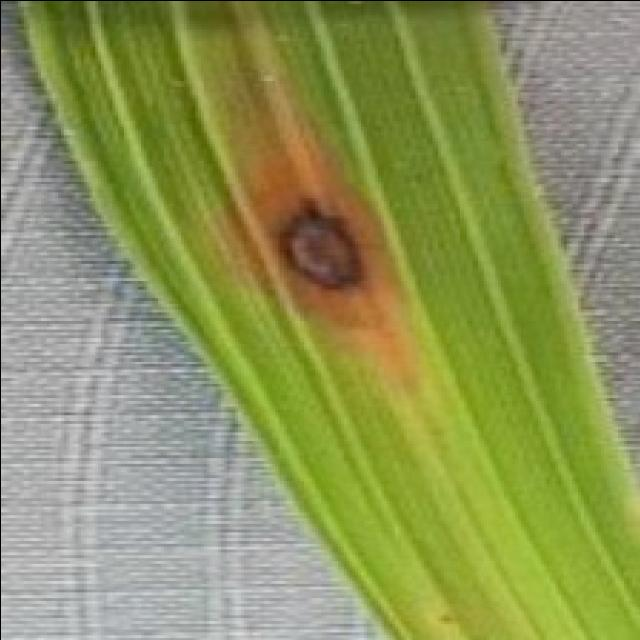Unhealthy: (207, 60, 422, 382)
